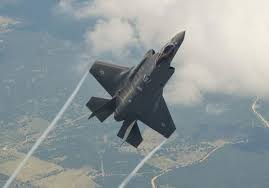fighter: (85, 25, 190, 150)
